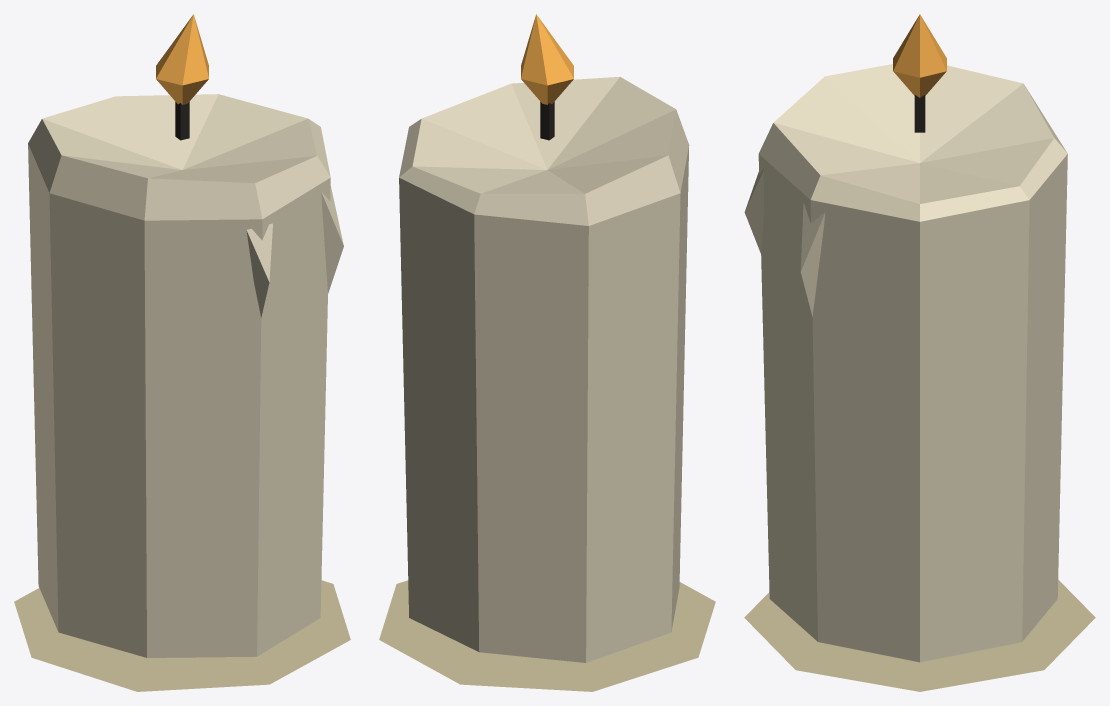
File: candle_mid.glb
3 views of the same model, side by side, from view 1: azimuth 30°, elevation 25°; view 2: azimuth 150°, elevation 25°; view 3: azimuth 270°, elevation 25° (orthographic).
Visible parts, largest first — view 1: Cera derretida, Charco, Llama, Gota, Gota.001, Mecha; view 2: Cera derretida, Charco, Llama, Mecha; view 3: Cera derretida, Charco, Llama, Gota.001, Gota.
Part boxes in pixels (x1,y1,x2,y2): Cera derretida: (28, 94, 330, 657); Charco: (14, 580, 350, 691); Llama: (156, 14, 208, 104); Gota: (246, 223, 272, 317); Gota.001: (321, 186, 343, 293); Mecha: (175, 102, 189, 140); Cera derretida: (399, 76, 689, 662); Charco: (379, 580, 715, 691); Llama: (521, 14, 573, 104); Mecha: (540, 102, 554, 140); Cera derretida: (758, 64, 1067, 662); Charco: (744, 580, 1095, 691); Llama: (893, 14, 946, 97); Gota.001: (800, 203, 825, 316); Gota: (744, 168, 763, 253).
Bounding box in the file's own units: 0.068 × 0.13 × 0.068.
